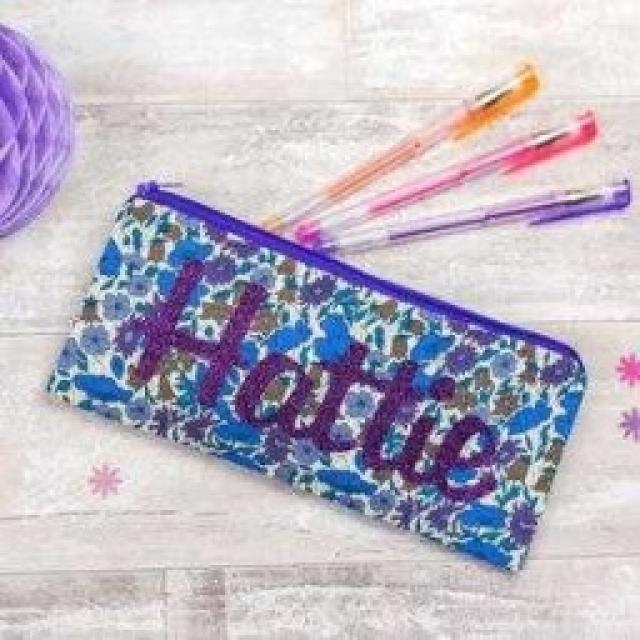pencil: (42, 175, 590, 575)
